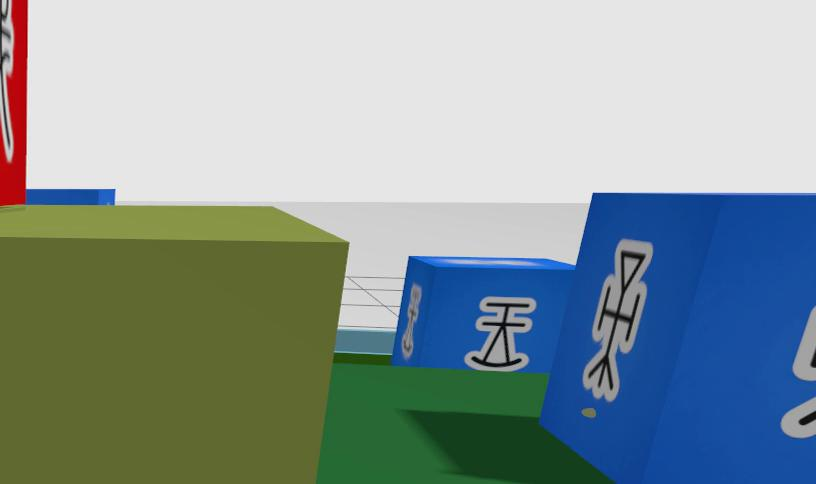KFS_FAKE: (0, 0, 31, 205), (0, 0, 16, 161)
KFS_REAL: (540, 194, 815, 484), (393, 257, 573, 372), (582, 240, 653, 401), (465, 297, 535, 370)
